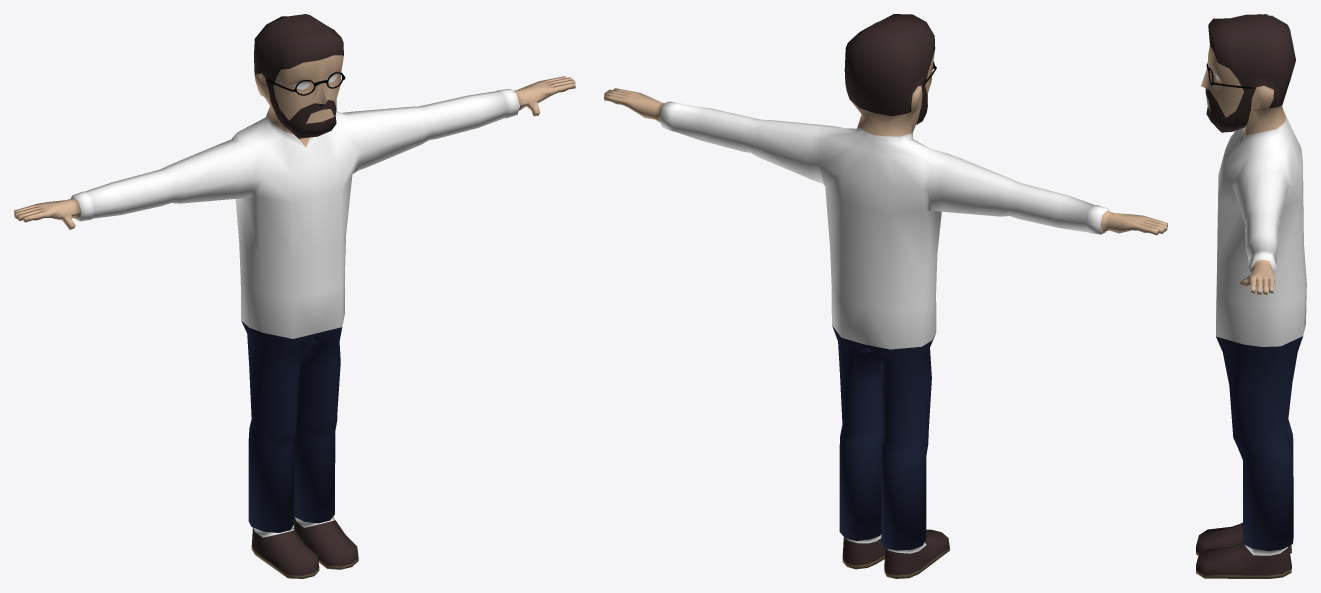
The model's file is Gregg.fbx.
3 views of the same model, side by side, from view 1: azimuth 30°, elevation 25°; view 2: azimuth 150°, elevation 25°; view 3: azimuth 270°, elevation 25° (orthographic).
Visible parts, largest first — view 1: gregg; view 2: gregg; view 3: gregg.
Boxes of the visible parts, <box> form: gregg: <box>14,14,575,578</box>; gregg: <box>604,14,1167,578</box>; gregg: <box>1196,14,1306,578</box>.
Size of the model in its own units: 379 by 346 by 64.34.
